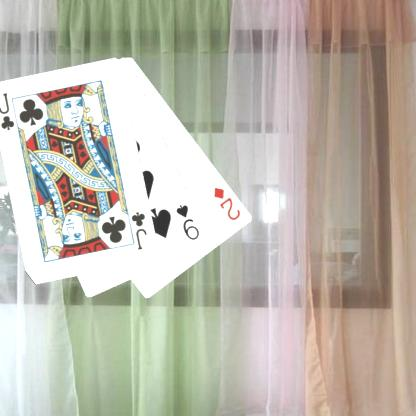2D: (211, 184, 242, 222)
9S: (173, 201, 201, 242)
JC: (129, 209, 149, 252), (0, 90, 16, 132)
